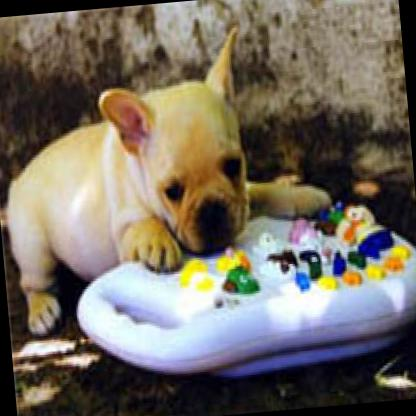French_bulldog: (0, 16, 340, 338)
